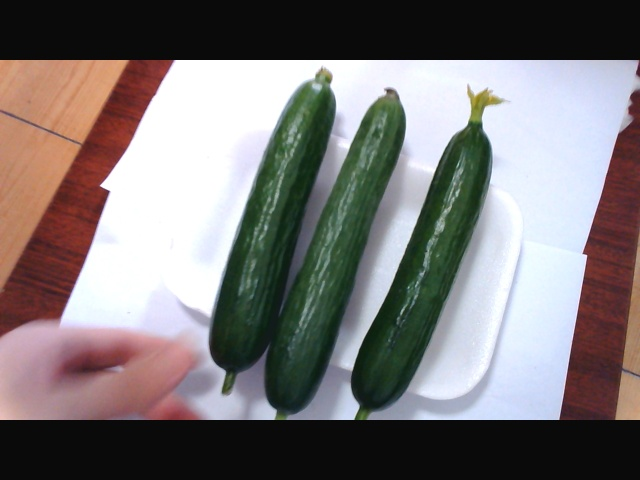cucumber: (201, 74, 404, 418), (346, 107, 496, 420)
